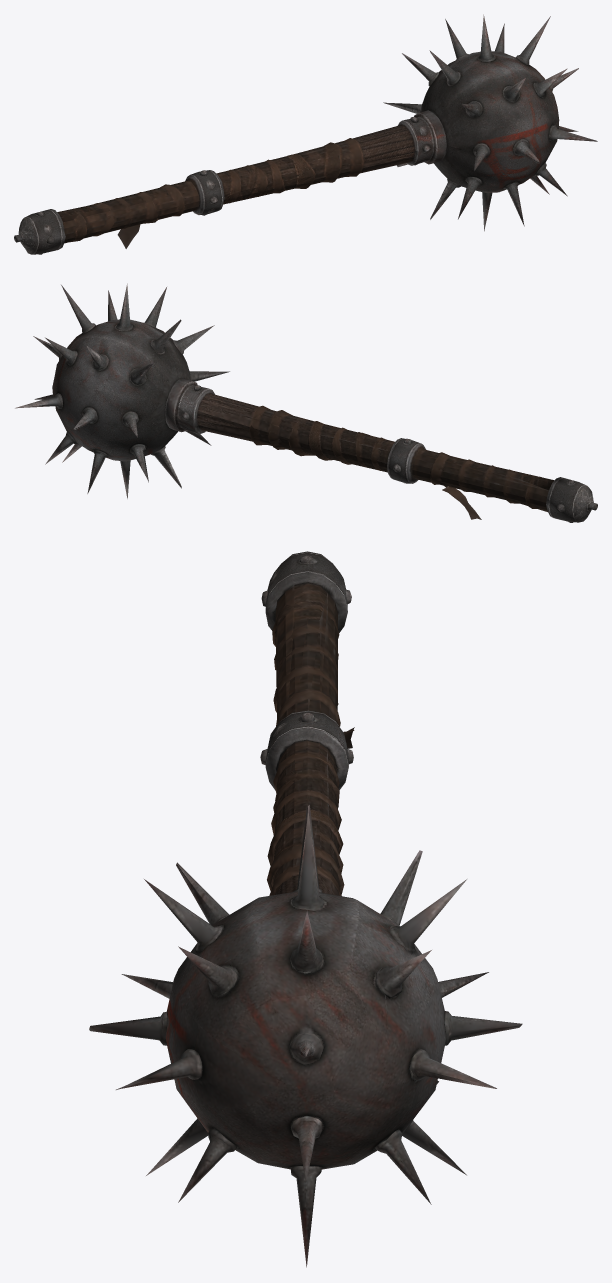
Rendered from morningstar.glb.
3 renders of one model, top to bottom at view 1: azimuth 30°, elevation 25°; view 2: azimuth 150°, elevation 25°; view 3: azimuth 270°, elevation 25°, orthographic. The views are drawn at different scales.
Parts seen in each view (by area): view 1: morningstar; view 2: morningstar; view 3: morningstar.
Part boxes in pixels (left/top/right/bottom): morningstar: left=14, top=14, right=597, bottom=254; morningstar: left=15, top=283, right=597, bottom=522; morningstar: left=89, top=551, right=522, bottom=1267.
Bounding box in the file's own units: 0.95 × 0.3507 × 0.3173.
Materials: 1 (1 with a texture image).
